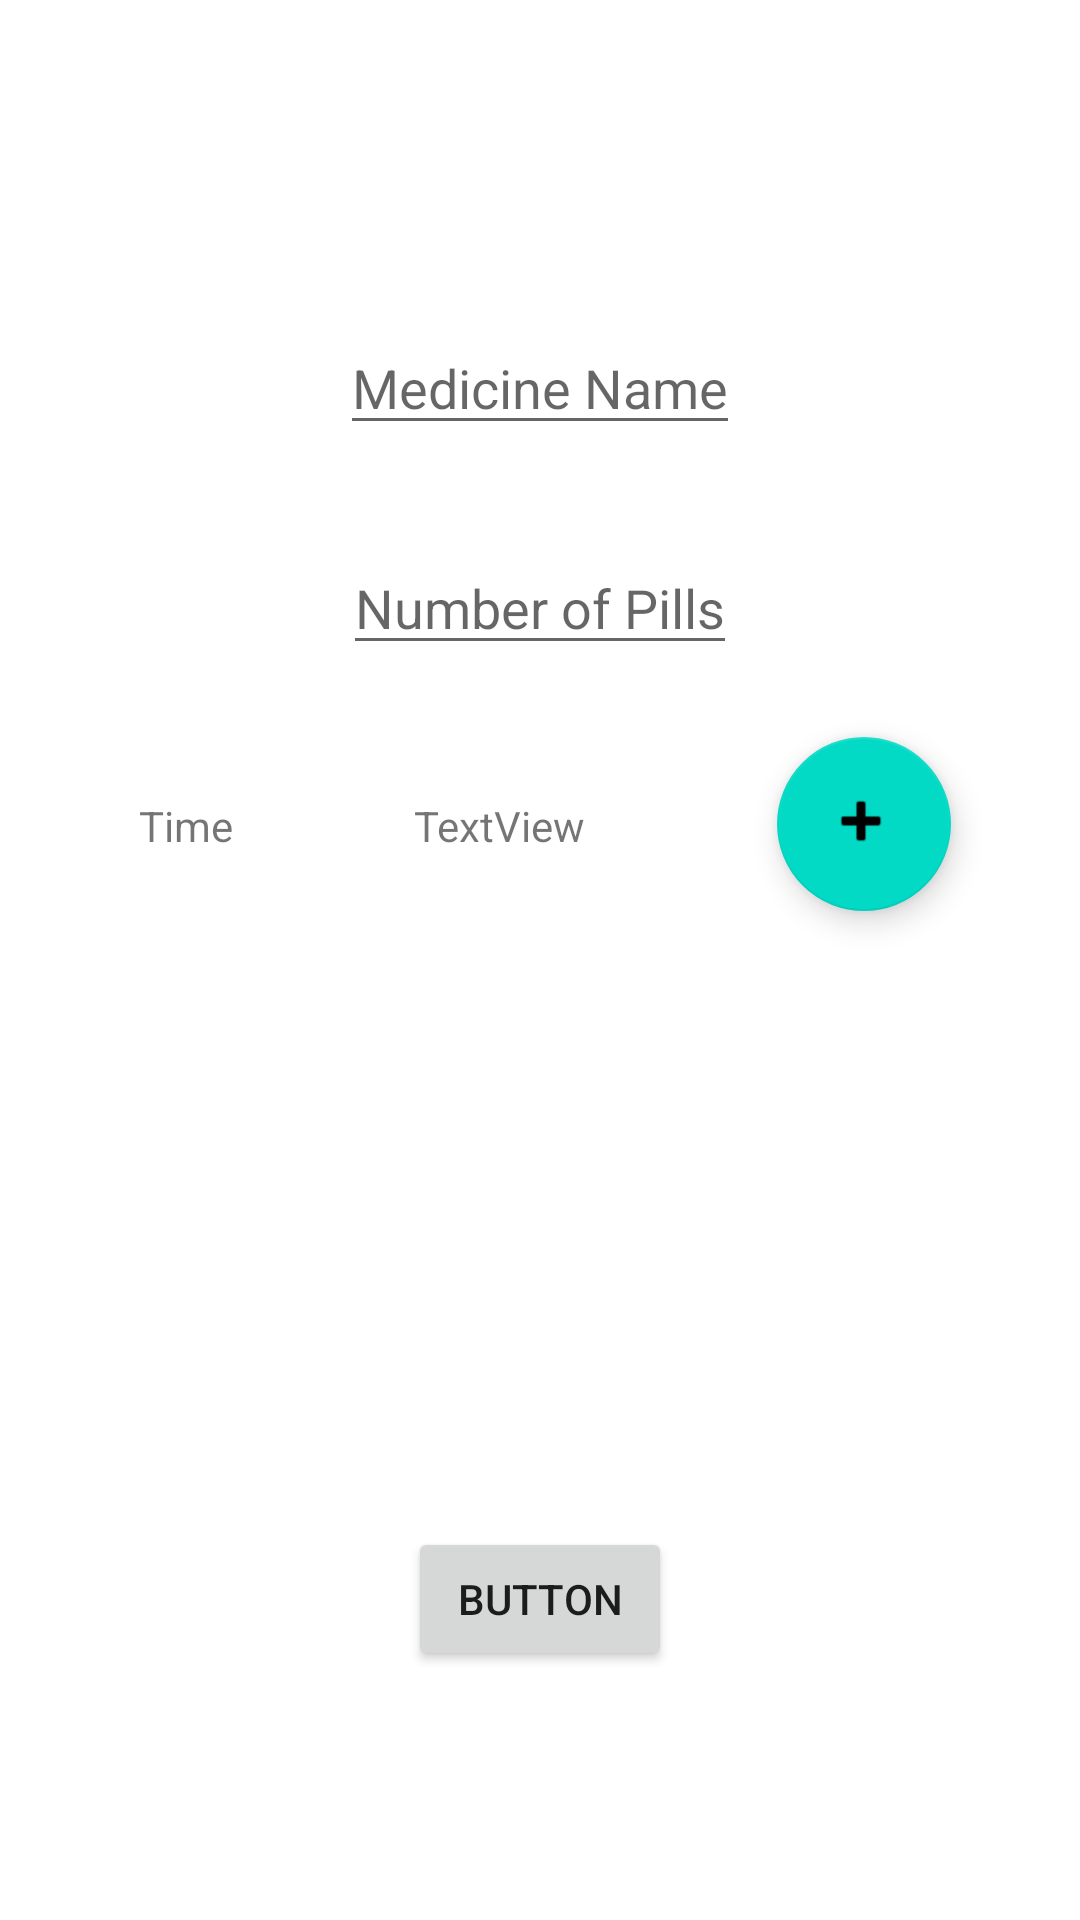

Screen size 1080px×1920px. Icon name, then its box in pixels as (x1, y1, x2, y2):
add: (777, 737, 951, 911)
